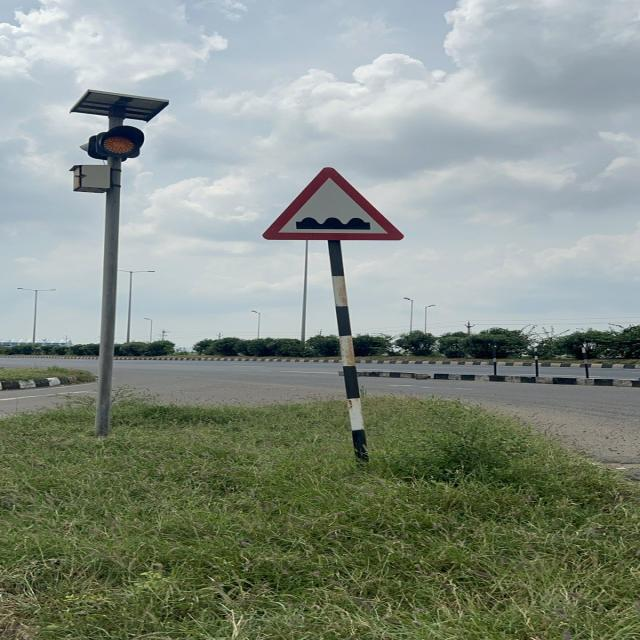Rumble_strip: (260, 165, 417, 244)
